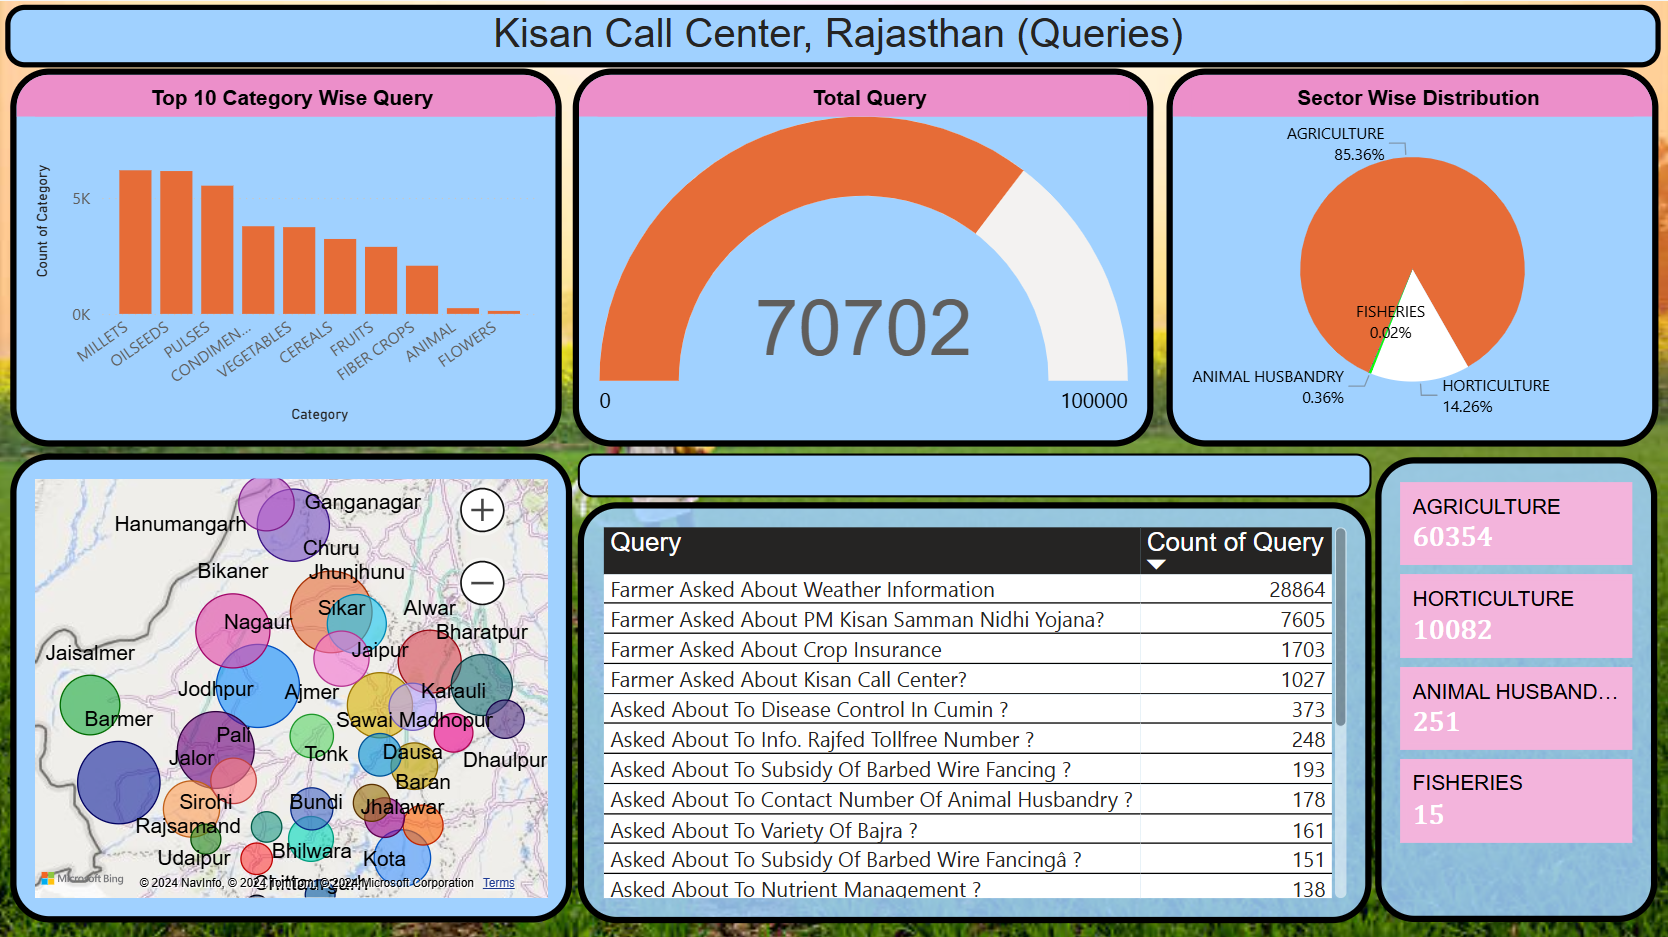

The page's visual inventory and layout, read from the dashboard file:
{"tool":"powerbi","page":{"name":"Dashboard","canvas":[1280,720],"ordinal":0},"visuals":[{"type":"map","title":"District Wise Query","fields":{"Size":["CountNonNull(Cleaned.District)"],"Category":["Location (2).District"],"Series":["Location (2).District"],"Y":["Avg(Location (2).Latitude)"],"X":["Avg(Location (2).Longitude)"]},"box":[8.4,346.2,430.7,359.5],"z":0},{"type":"clusteredColumnChart","title":"Top 10 Category Wise Query","fields":{"Category":["Table1_15.Category"],"Y":["CountNonNull(Table1_15.Category)"]},"box":[8.4,51.9,422.3,289.5],"z":1000},{"type":"gauge","title":"Total Query","fields":{"Y":["CountNonNull(Table1_15.Category)"]},"box":[439.1,51.9,445.2,289.5],"z":2000},{"type":"card","title":"Top 1 Query","fields":{"Values":["Min(Cleaned.Query)"]},"box":[443.1,346.9,608.1,33.8],"z":3000},{"type":"tableEx","fields":{"Values":["Cleaned.Query","CountNonNull(Cleaned.Query)"]},"box":[443,383.6,608,322.1],"z":4000},{"type":"pieChart","title":"Sector Wise Distribution","fields":{"Category":["Table1_15.Sector"],"Y":["CountNonNull(Table1_15.Sector)"]},"box":[894,51.9,376.4,289.5],"z":5000},{"type":"multiRowCard","fields":{"Values":["CountNonNull(Table1_15.Sector)","Table1_15.Sector"]},"box":[1054.4,349.9,216,355.9],"z":6000},{"type":"textbox","title":"Kisan Call Center, Rajasthan (Queries)","box":[4.8,2.4,1268,48.3],"z":7000}]}

Visuals, with their boxes in screenshot pixels (x1, y1, x2, y2), scaled from the page's 1280x720 canvas onto the 1668x937 screenshot:
"District Wise Query" map: (11, 451, 572, 918)
"Top 10 Category Wise Query" clusteredColumnChart: (11, 68, 561, 444)
"Total Query" gauge: (572, 68, 1152, 444)
"Top 1 Query" card: (577, 451, 1370, 495)
tableEx - Cleaned.Query x CountNonNull(Cleaned.Query): (577, 499, 1370, 918)
"Sector Wise Distribution" pieChart: (1165, 68, 1655, 444)
multiRowCard - CountNonNull(Table1_15.Sector) x Table1_15.Sector: (1374, 455, 1655, 919)
"Kisan Call Center, Rajasthan (Queries)" textbox: (6, 3, 1659, 66)
